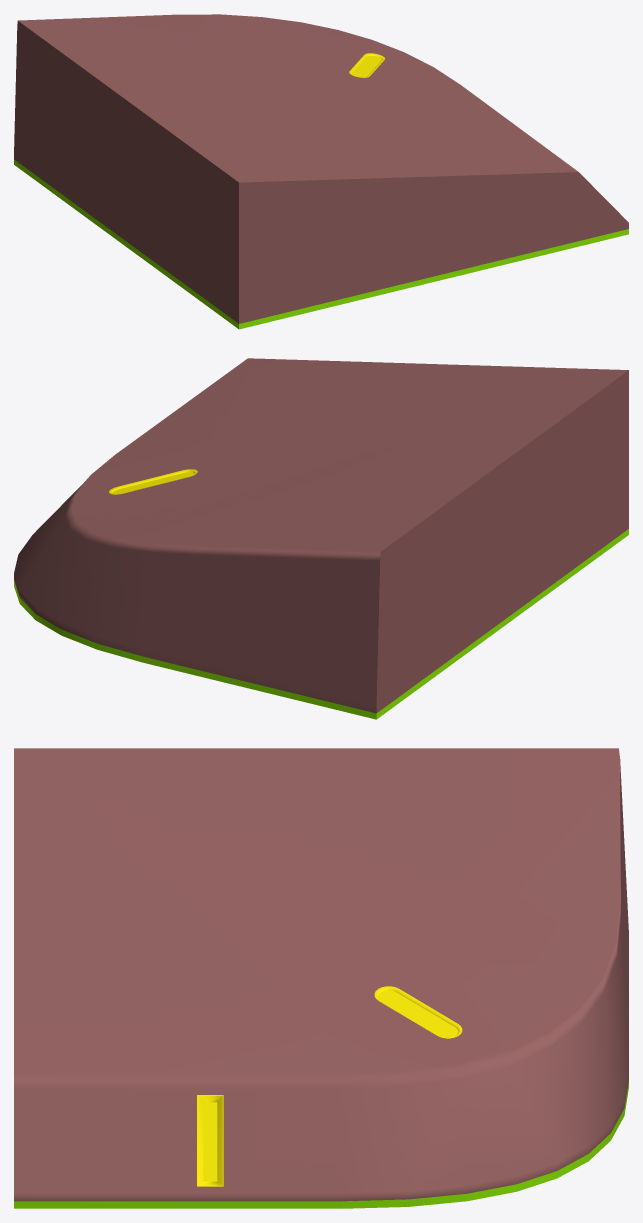
The model's file is Building_Roof_02c_snaps016.fbx.
The picture shows the model from 3 angles, top to bottom: view 1: azimuth 30°, elevation 25°; view 2: azimuth 150°, elevation 25°; view 3: azimuth 270°, elevation 25°; orthographic projection. The views are drawn at different scales.
Visible parts, largest first — view 1: Building_Roof_02c_snaps016_LOD0; view 2: Building_Roof_02c_snaps016_LOD0; view 3: Building_Roof_02c_snaps016_LOD0.
Boxes of the visible parts, x1,y1,x2,y2 form: Building_Roof_02c_snaps016_LOD0: [14, 14, 628, 329]; Building_Roof_02c_snaps016_LOD0: [14, 358, 628, 719]; Building_Roof_02c_snaps016_LOD0: [14, 748, 628, 1208].
Size of what is drawn, in the model's own units: 3 by 1.08 by 3.
